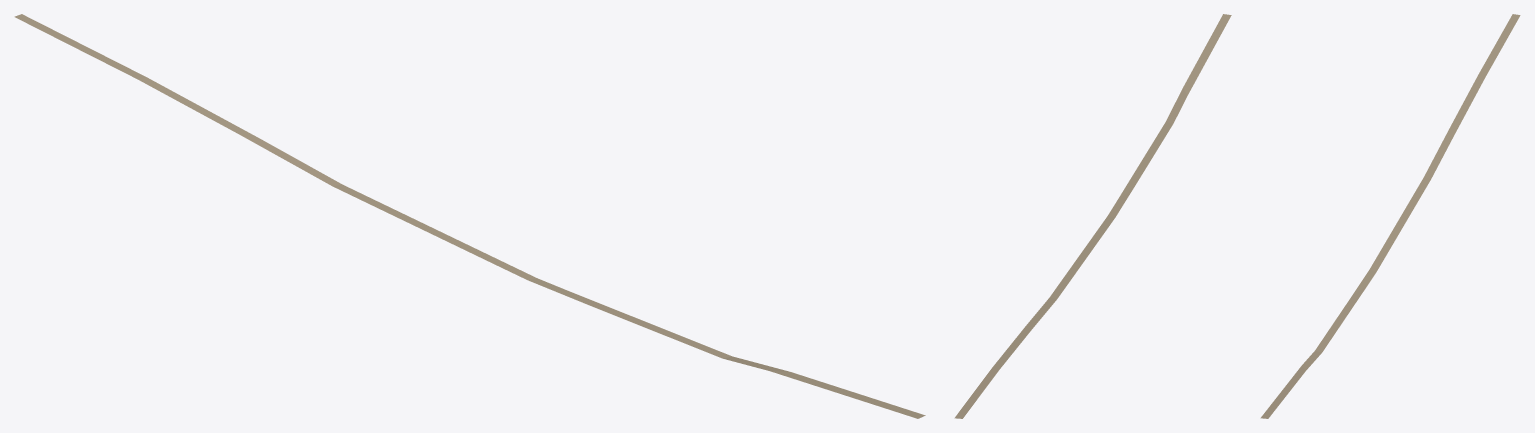
File: farm_-2_16_track.glb
3 views of the same model, side by side, from view 1: azimuth 30°, elevation 25°; view 2: azimuth 150°, elevation 25°; view 3: azimuth 330°, elevation 25° (orthographic). The views are drawn at different scales.
Visible parts, largest first — view 1: geometry_0; view 2: geometry_0; view 3: geometry_0.
Part boxes in pixels (x1,y1,x2,y2): geometry_0: (14, 14, 925, 418); geometry_0: (954, 14, 1231, 418); geometry_0: (1260, 14, 1520, 418).
Bounding box in the file's own units: 101 × 14.83 × 372.
